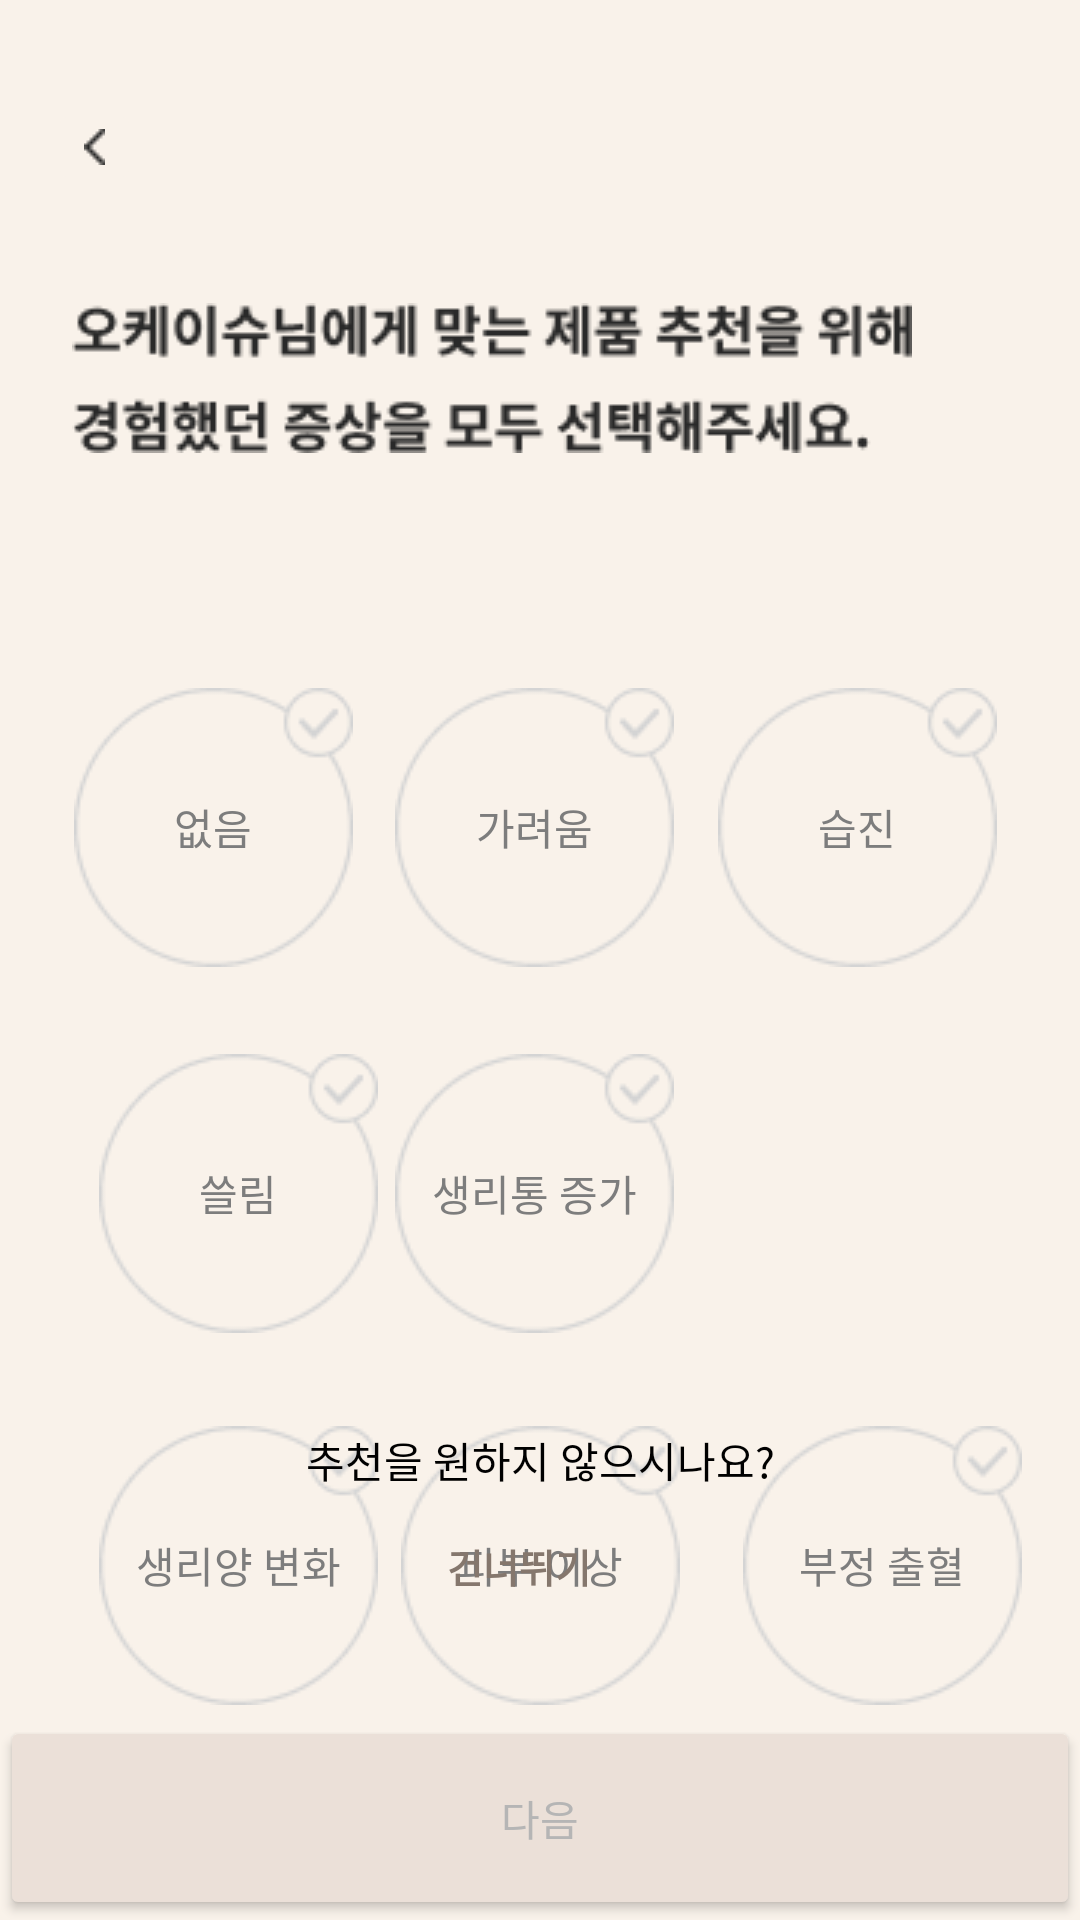

Screen size 1080px x 1920px. Icon name, then its center in pixels as (x=x, y=y):
back: (x=94, y=147)
